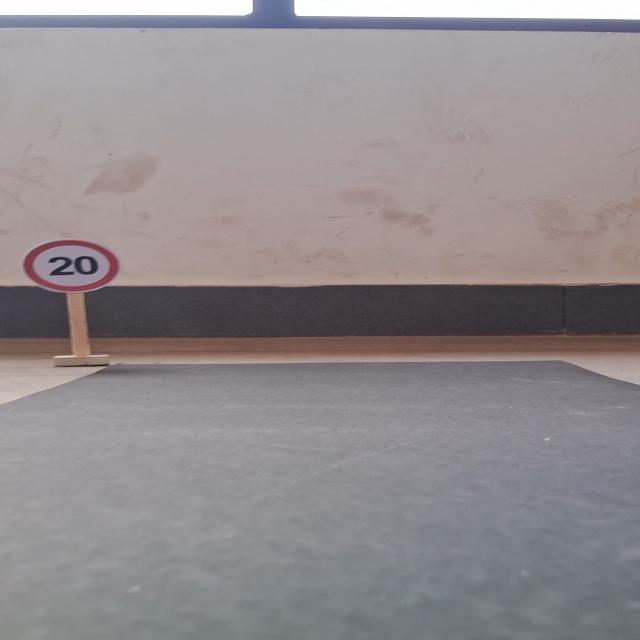Speed20: (19, 235, 125, 295)
